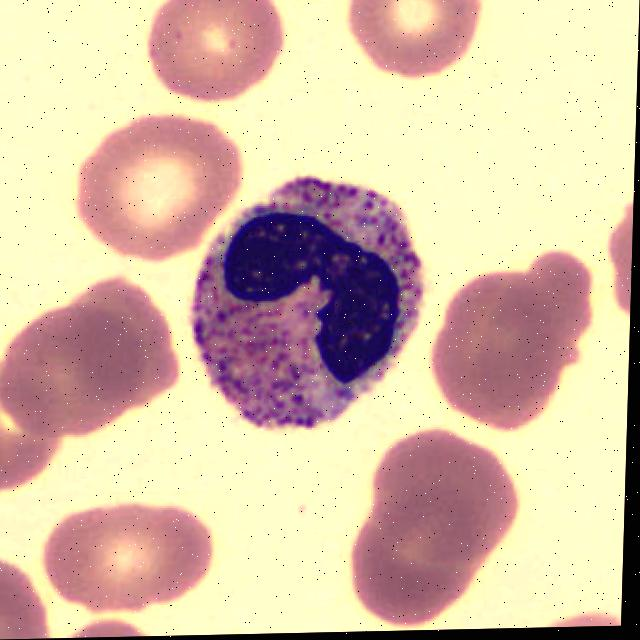neutrophil: (182, 164, 433, 435)
rbc: (418, 247, 595, 433), (347, 424, 524, 579), (27, 483, 233, 615), (74, 103, 240, 264), (325, 510, 492, 632), (44, 279, 181, 427), (0, 315, 142, 446), (154, 0, 294, 117), (326, 0, 480, 90), (0, 368, 76, 509), (0, 552, 52, 640), (601, 202, 634, 339), (264, 0, 349, 9)
